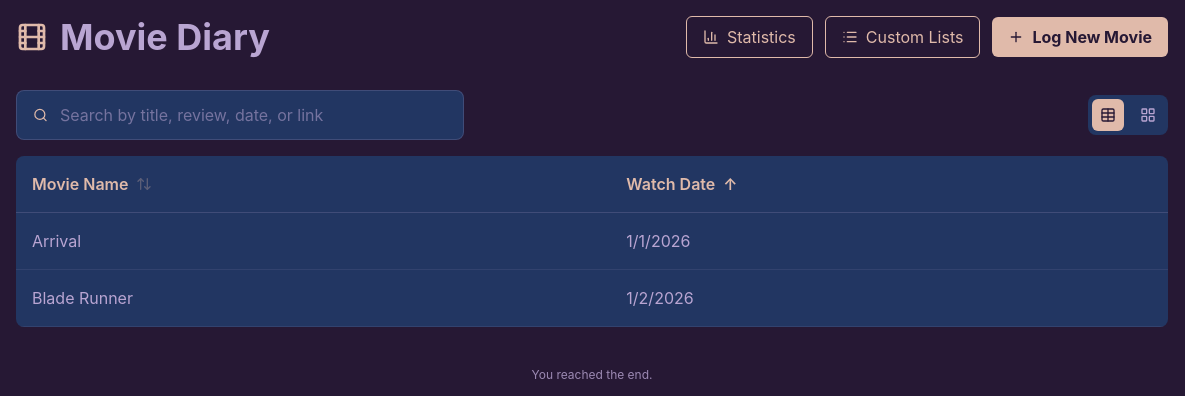
MovieDiary › filters movies using the search input
In the search field named "Search movies": (254, 115) [60,103,447,127], type "blade"
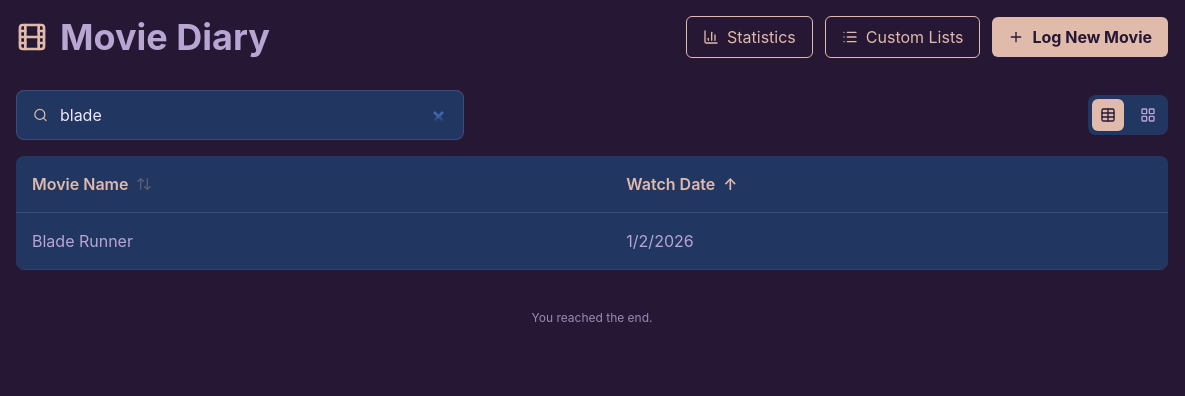
Check: the text "Blade Runner" is shown, box [16,212,610,270]
Check: the text "Arrival" is gone
